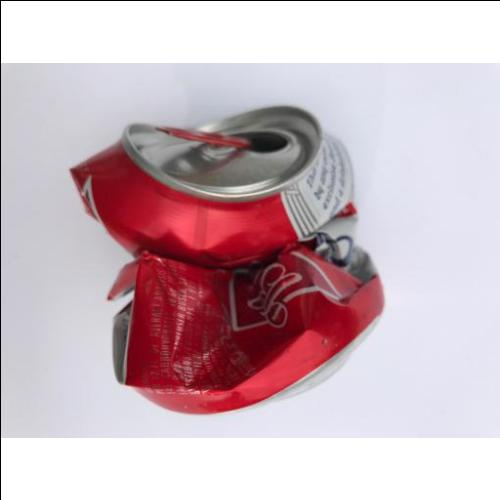metal: (71, 104, 382, 412)
